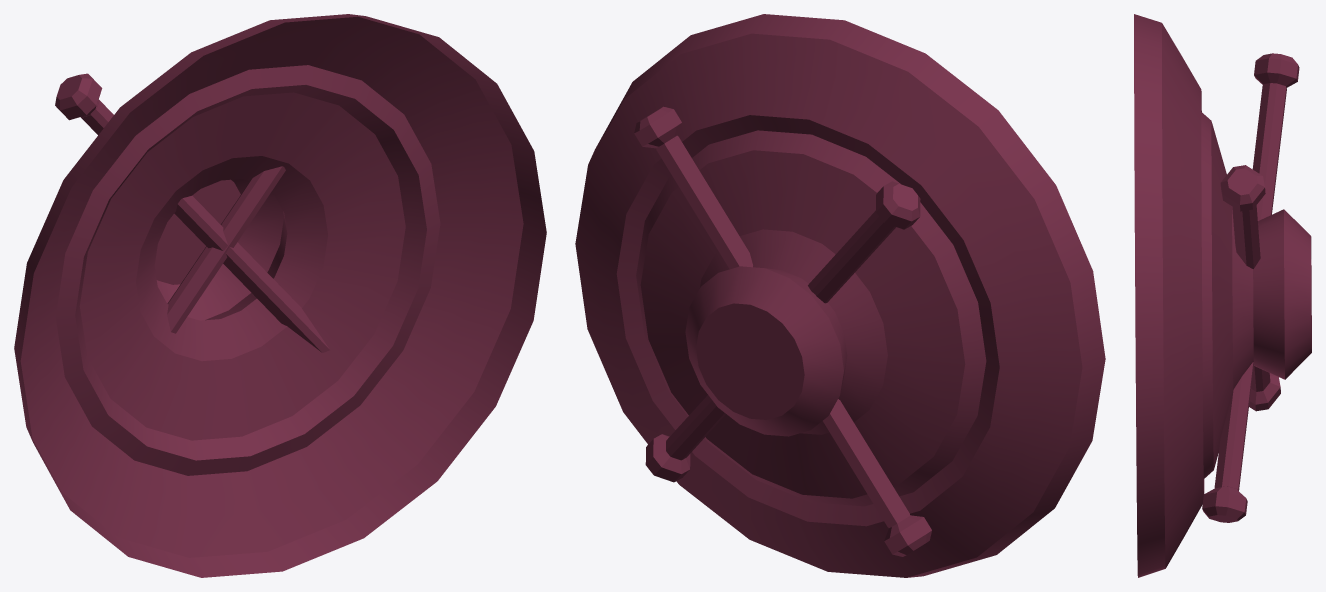
The model's file is tuyau_bout.fbx.
3 views of the same model, side by side, from view 1: azimuth 30°, elevation 25°; view 2: azimuth 150°, elevation 25°; view 3: azimuth 270°, elevation 25° (orthographic). The views are drawn at different scales.
Parts seen in each view (by area): view 1: Cylinder.022; view 2: Cylinder.022; view 3: Cylinder.022.
Boxes of the visible parts, box(x1,y1,x2,y2) form: Cylinder.022: box(14, 14, 546, 577); Cylinder.022: box(575, 14, 1105, 577); Cylinder.022: box(1134, 14, 1311, 577).
Size of the model in its own units: 119 by 119 by 37.14.
